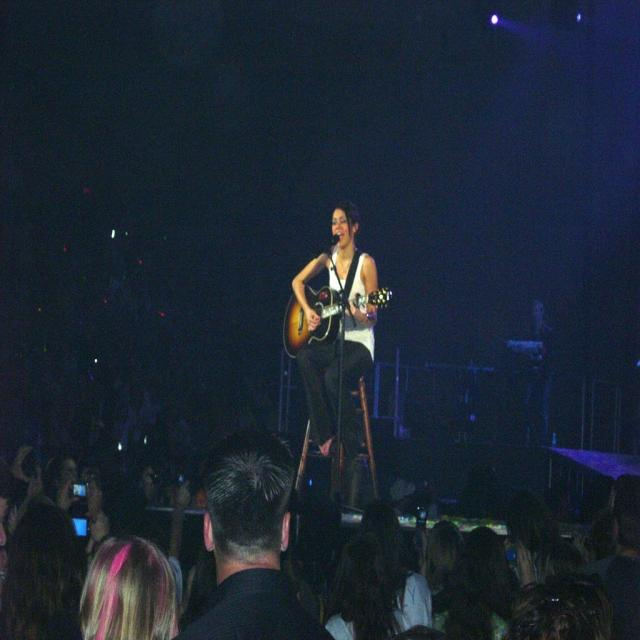guitar: (282, 283, 394, 359)
